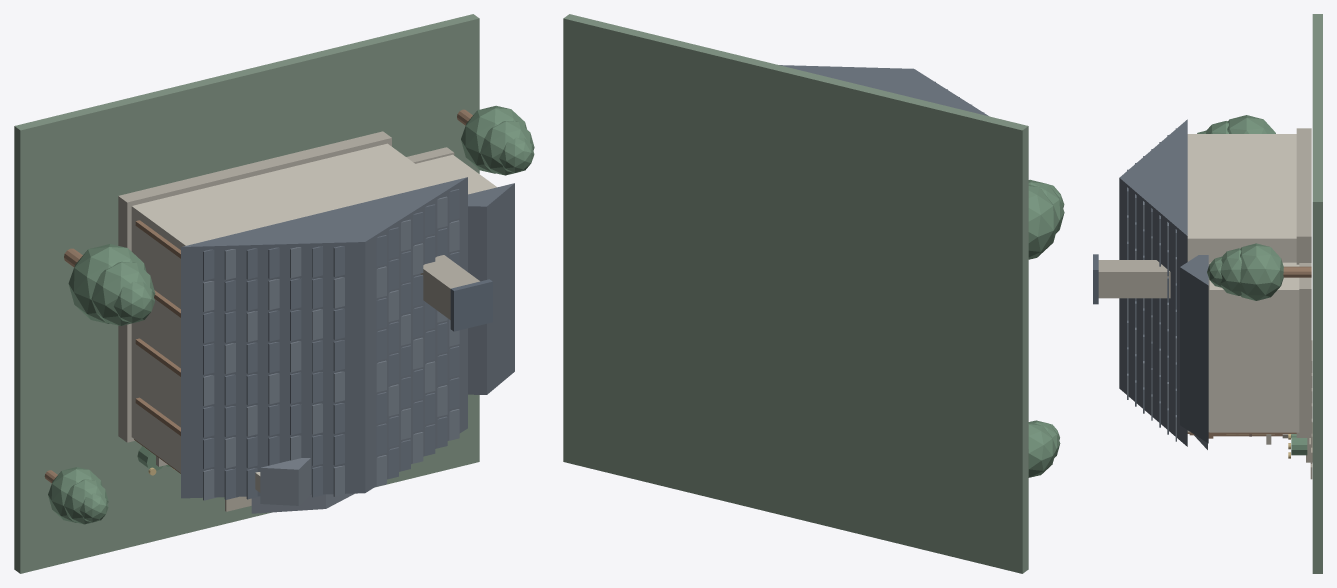
The model's file is sReader_Storybook_House.glb.
3 views of the same model, side by side, from view 1: azimuth 30°, elevation 25°; view 2: azimuth 150°, elevation 25°; view 3: azimuth 270°, elevation 25° (orthographic). The views are drawn at different scales.
Parts seen in each view (by area): view 1: landscaped_grass, main_slate_gable_roof, main_cream_walls, annex_gable, main_stone_base, tree_crown, dormer_roof, tree_crown_1, chimney_cap, chimney_stone, tree_crown_3, tree_crown_4 (+6 smaller); view 2: landscaped_grass, main_slate_gable_roof, tree_crown, tree_crown_6; view 3: main_slate_gable_roof, main_cream_walls, annex_walls, landscaped_grass, annex_gable, chimney_stone, main_stone_base, tree_crown_3, annex_foundation, tree_crown_4, tree_crown, tree_crown_5 (+3 smaller).
Boxes of the visible parts, <box> form: landscaped_grass: <box>14,14,479,573</box>; main_slate_gable_roof: <box>181,177,467,498</box>; main_cream_walls: <box>131,143,441,472</box>; annex_gable: <box>468,183,514,394</box>; main_stone_base: <box>118,131,391,442</box>; tree_crown: <box>68,244,146,323</box>; dormer_roof: <box>260,458,310,505</box>; tree_crown_1: <box>91,261,155,325</box>; chimney_cap: <box>450,279,492,331</box>; chimney_stone: <box>420,255,479,319</box>; tree_crown_3: <box>461,105,526,173</box>; tree_crown_4: <box>480,121,534,175</box>; landscaped_grass: <box>563,14,1028,573</box>; main_slate_gable_roof: <box>779,65,988,116</box>; tree_crown: <box>1028,184,1059,259</box>; tree_crown_6: <box>1028,422,1056,477</box>; main_slate_gable_roof: <box>1119,119,1187,446</box>; main_cream_walls: <box>1187,134,1296,432</box>; annex_walls: <box>1209,262,1299,432</box>; landscaped_grass: <box>1312,14,1322,573</box>; annex_gable: <box>1180,255,1208,443</box>; chimney_stone: <box>1098,260,1170,298</box>; main_stone_base: <box>1296,128,1311,437</box>; tree_crown_3: <box>1240,243,1283,300</box>; annex_foundation: <box>1299,263,1311,434</box>; tree_crown_4: <box>1220,248,1241,295</box>; tree_crown: <box>1227,115,1275,133</box>; tree_crown_5: <box>1207,256,1222,287</box>.
Size of the model in its own units: 13.35 by 12 by 6.72.
